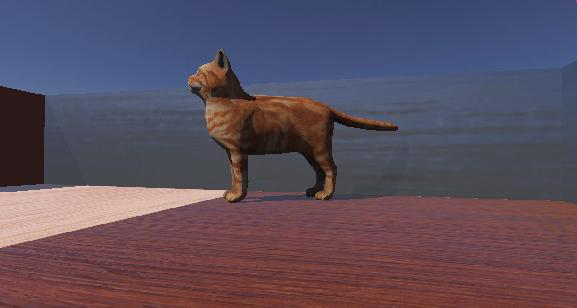Cat: (173, 41, 436, 213)
